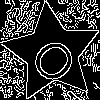O: (27, 28, 87, 88)
